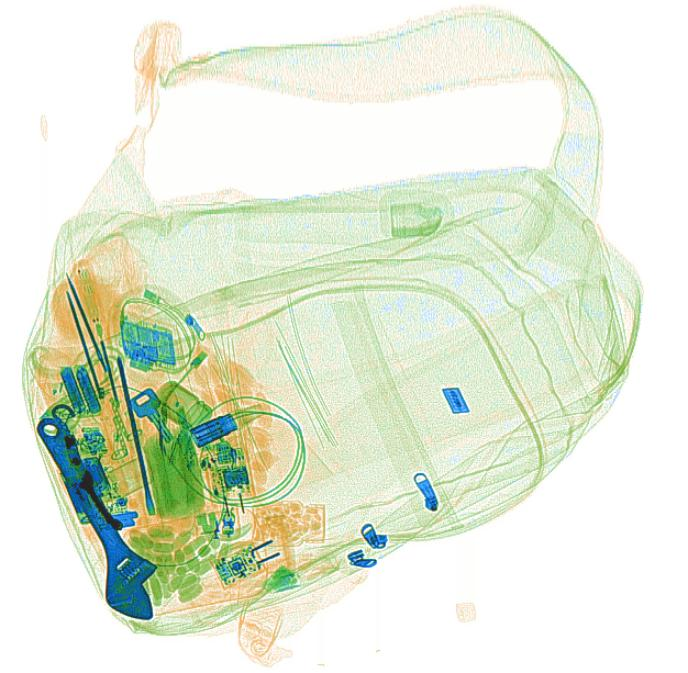battery: (58, 467, 99, 526), (58, 364, 88, 414), (77, 366, 102, 414)
